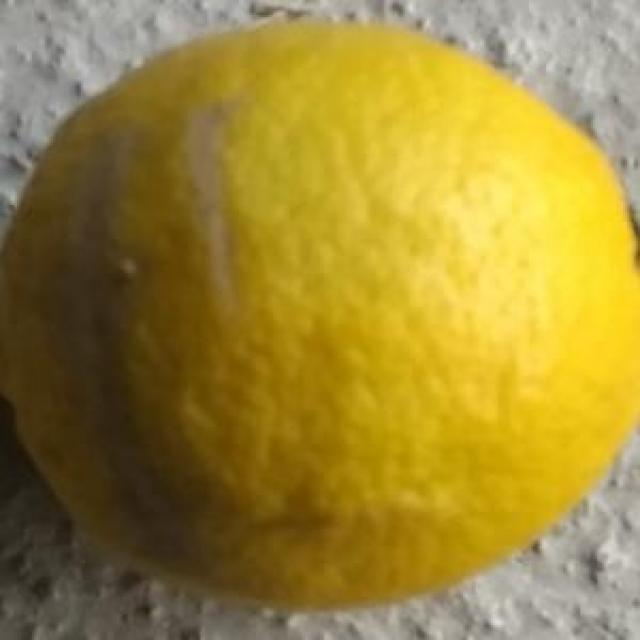lemon: (5, 8, 640, 618)
